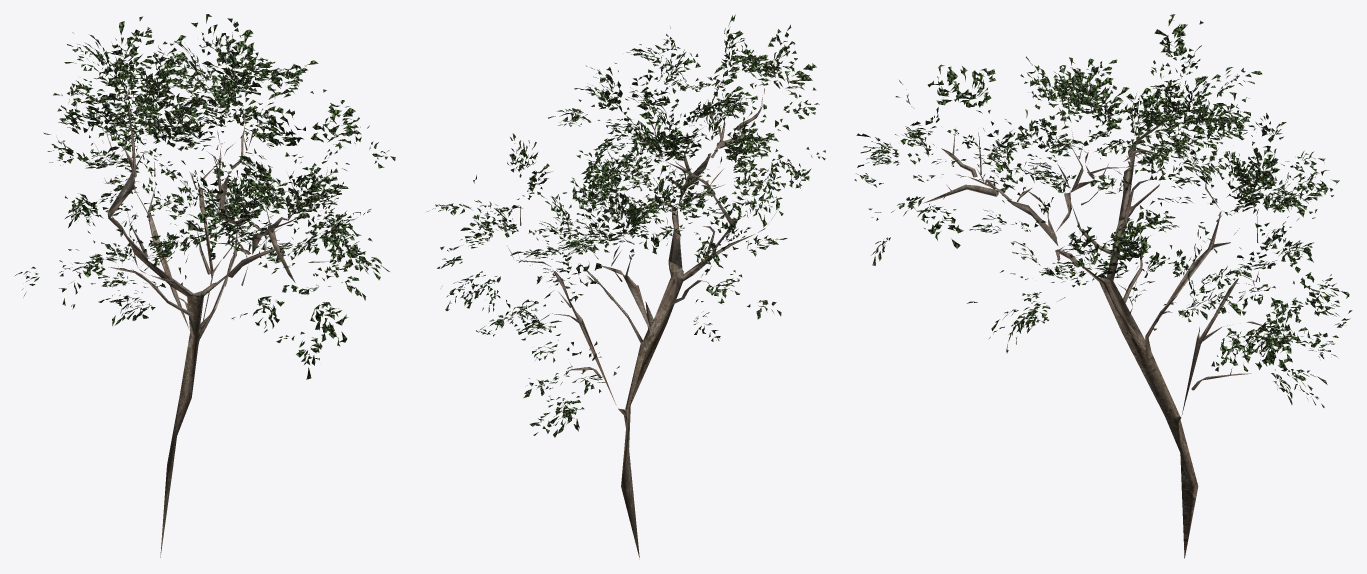
File: tree-low.glb
3 views of the same model, side by side, from view 1: azimuth 30°, elevation 25°; view 2: azimuth 150°, elevation 25°; view 3: azimuth 270°, elevation 25° (orthographic). The views are drawn at different scales.
Visible parts, largest first — view 1: tree_small_02_LOD0; view 2: tree_small_02_LOD0; view 3: tree_small_02_LOD0.
Part boxes in pixels (bbox=[...]): tree_small_02_LOD0: bbox=[15, 14, 395, 557]; tree_small_02_LOD0: bbox=[427, 14, 825, 557]; tree_small_02_LOD0: bbox=[854, 14, 1352, 558].
Size of the model in its own units: 2.87 by 4.54 by 4.06.
Materials: 3 (3 with a texture image).
